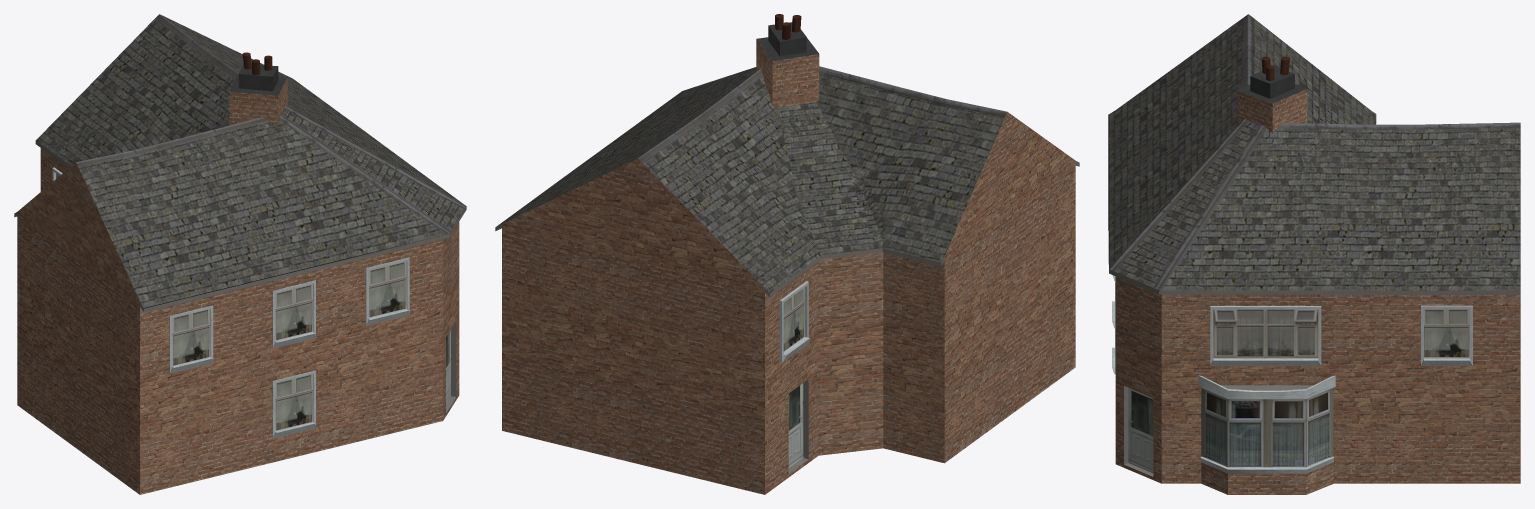
The model's file is cornerterrace1c.FBX.
The picture shows the model from 3 angles, left to right: view 1: azimuth 30°, elevation 25°; view 2: azimuth 150°, elevation 25°; view 3: azimuth 270°, elevation 25°; orthographic projection. The views are drawn at different scales.
Visible parts, largest first — view 1: Box004; view 2: Box004; view 3: Box004.
Boxes of the visible parts, bbox=[...] form: Box004: bbox=[14, 14, 466, 494]; Box004: bbox=[495, 14, 1079, 494]; Box004: bbox=[1108, 14, 1520, 494].
Size of the model in its own units: 1374 by 1195 by 1284.
